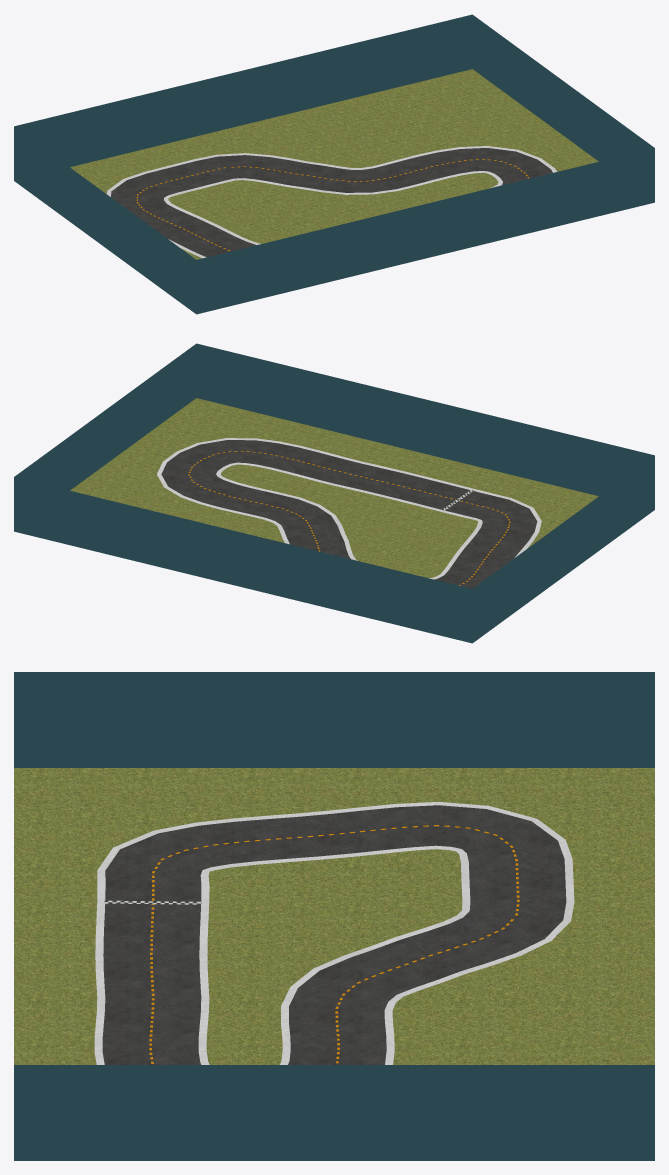
The model's file is reInvent2019_wide_ccw.dae.
3 views of the same model, one above another, from view 1: azimuth 30°, elevation 25°; view 2: azimuth 150°, elevation 25°; view 3: azimuth 270°, elevation 25° (orthographic). The views are drawn at different scales.
Visible parts, largest first — view 1: wall, field, road, ol, il; view 2: wall, field, road, ol, il, cl; view 3: wall, field, road, ol, il, cl.
Part boxes in pixels (bbox=[...]): wall: bbox=[14, 14, 654, 314]; field: bbox=[70, 69, 598, 259]; road: bbox=[111, 148, 552, 257]; ol: bbox=[106, 146, 556, 258]; il: bbox=[164, 171, 502, 244]; wall: bbox=[14, 343, 654, 643]; field: bbox=[70, 398, 598, 577]; road: bbox=[161, 440, 537, 588]; ol: bbox=[157, 438, 541, 557]; il: bbox=[216, 462, 482, 579]; cl: bbox=[188, 451, 510, 585]; wall: bbox=[14, 672, 654, 1160]; field: bbox=[14, 768, 654, 1064]; road: bbox=[102, 805, 566, 1064]; ol: bbox=[94, 802, 574, 1064]; il: bbox=[198, 845, 470, 1064]; cl: bbox=[149, 825, 519, 1063].
Size of the model in its own units: 8.8 by 6.06 by 1.
7 materials, 7 textured.
